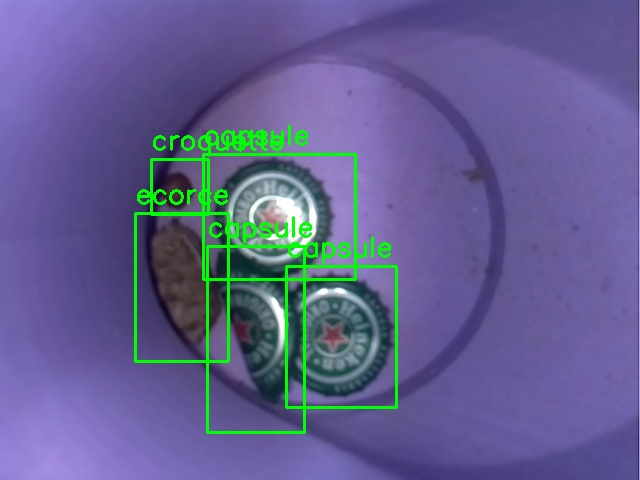capsule: (203, 154, 355, 279), (207, 246, 304, 432), (286, 266, 396, 407)
croquette: (151, 159, 208, 214)
ecorce: (135, 213, 228, 361)
